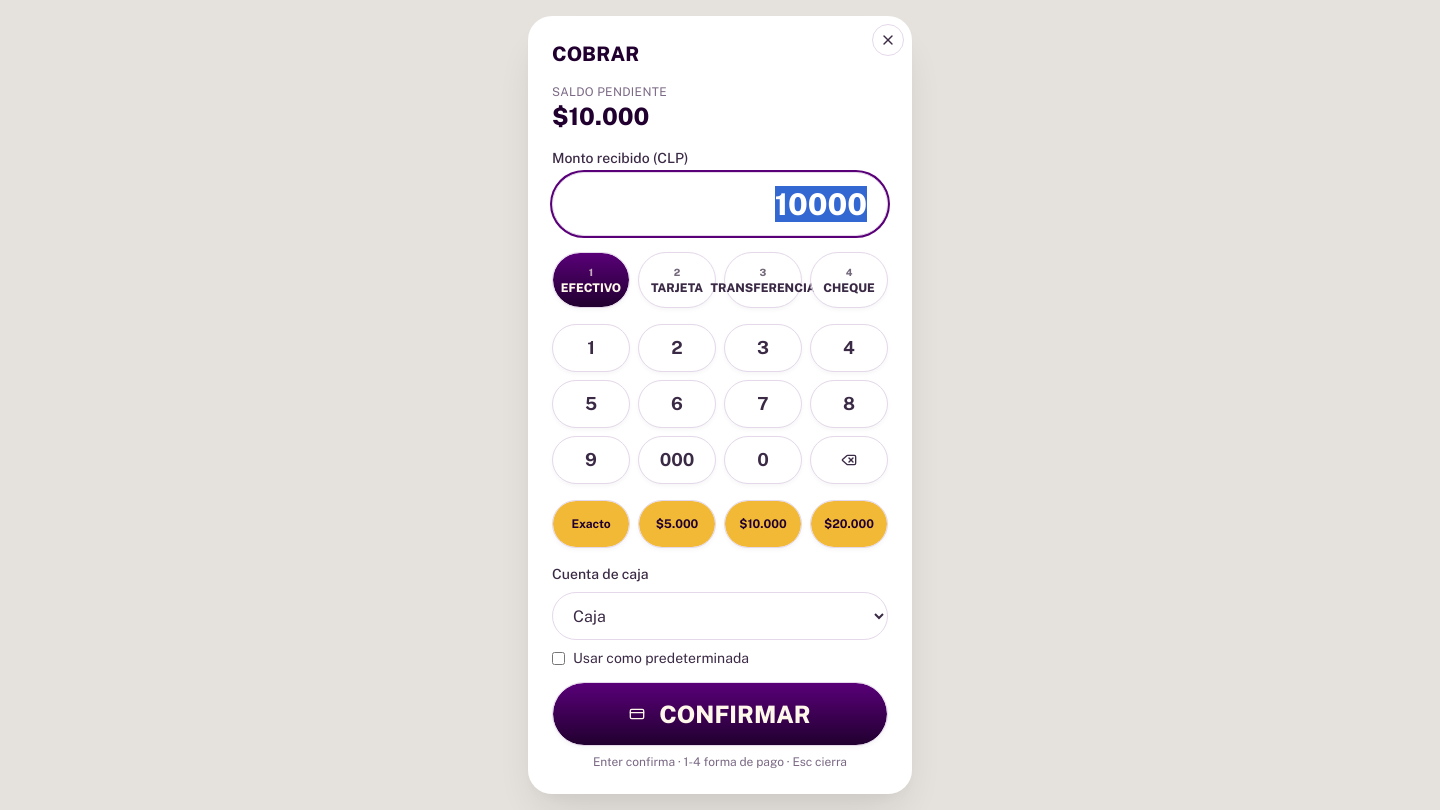
Scenario: pos3 — COBRAR: montos y formas de pago › bloquea doble submit mientras el pago está en vuelo
The width and height of the screenshot is (1440, 810).
Expected: the field with test id "pos-monto" holds "10000", x1=552 y1=172 x2=888 y2=236
Expected: the dropdown with test id "pos-cuenta" shows "Caja", x1=552 y1=592 x2=888 y2=640
Click the button with test id "pos-confirmar". click: x=720, y=714
box: x1=552 y1=682 x2=888 y2=746
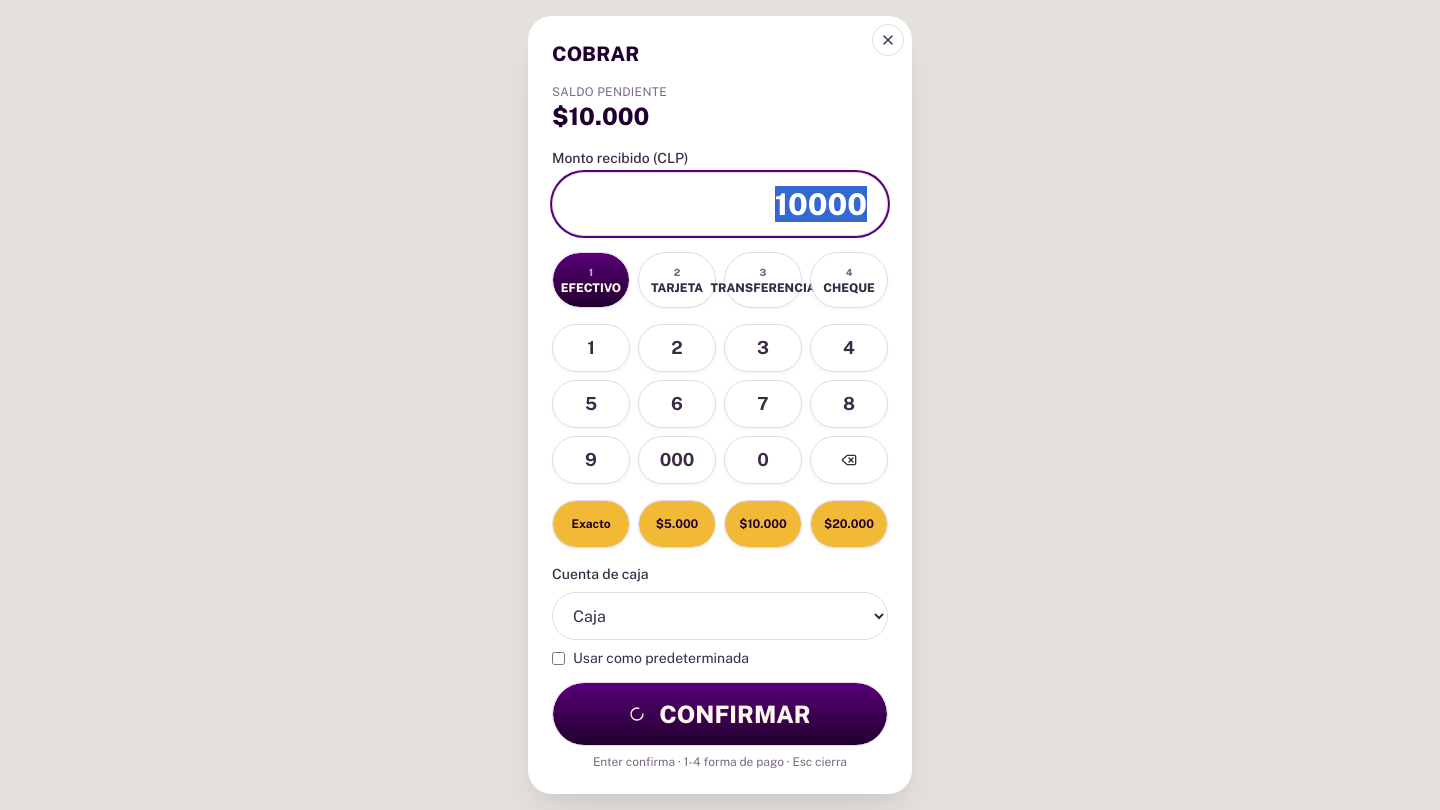
Click the button with test id "pos-confirmar". click: x=720, y=714
box: x1=552 y1=682 x2=888 y2=746
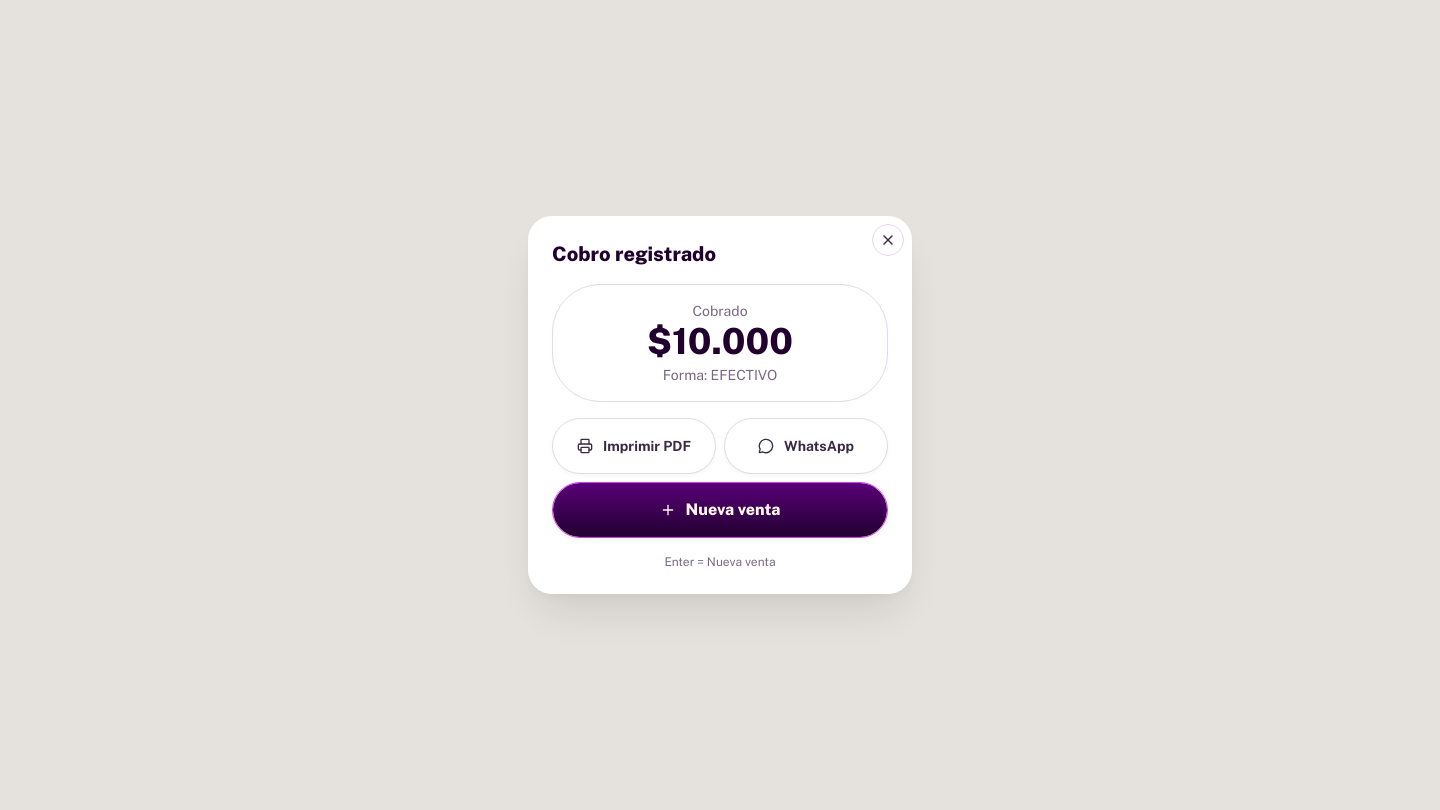
Now the heading "Cobro registrado" is shown, box x1=552 y1=242 x2=716 y2=266
